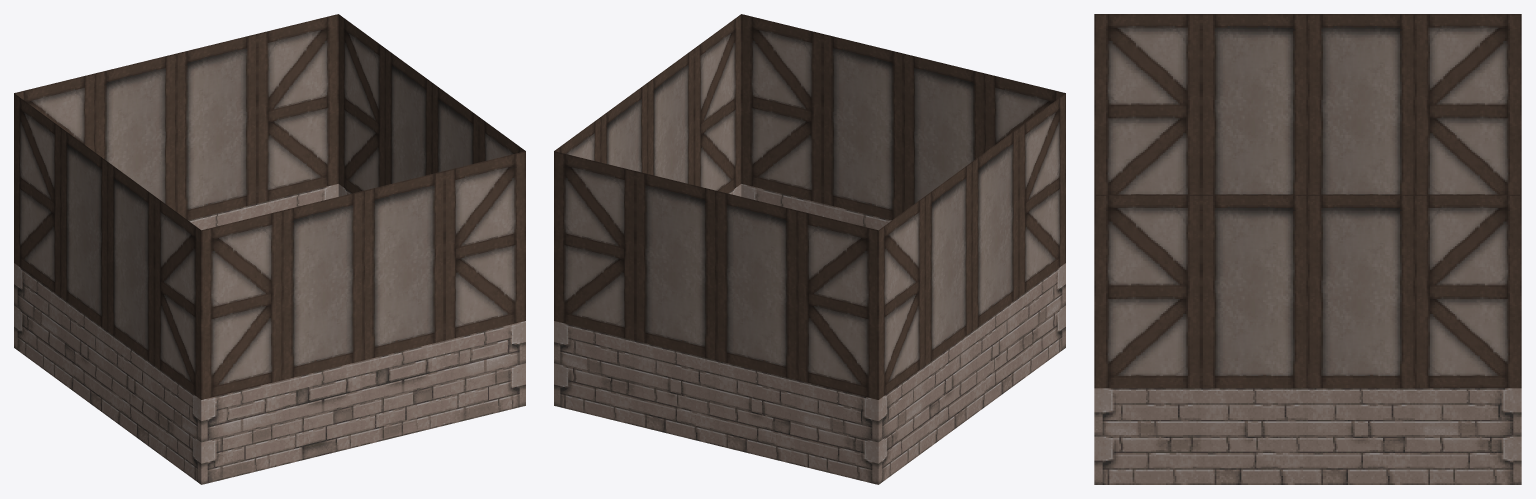
File: plaster_wall_stone_base_alt.glb
3 views of the same model, side by side, from view 1: azimuth 30°, elevation 25°; view 2: azimuth 150°, elevation 25°; view 3: azimuth 270°, elevation 25° (orthographic). The views are drawn at different scales.
Parts seen in each view (by area): view 1: plaster_wall_stone_base_alt; view 2: plaster_wall_stone_base_alt; view 3: plaster_wall_stone_base_alt.
Part boxes in pixels (x1=…): plaster_wall_stone_base_alt: x1=14, y1=14, x2=525, y2=484; plaster_wall_stone_base_alt: x1=554, y1=14, x2=1065, y2=484; plaster_wall_stone_base_alt: x1=1094, y1=14, x2=1521, y2=484.
Bounding box in the file's own units: 4 × 3 × 4.
1 material, 1 textured.
